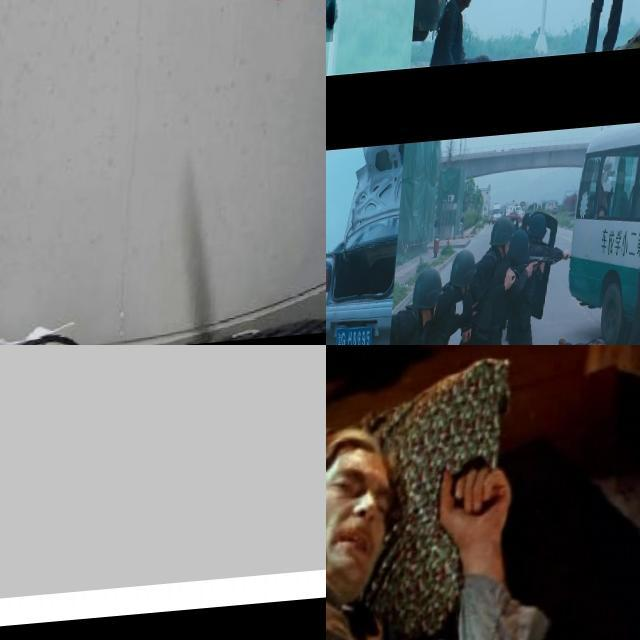-: (177, 0, 326, 41)
gun-knife-thesis - v11 Yolov5 augmented: (0, 345, 326, 640), (326, 0, 369, 80), (516, 254, 566, 288), (556, 0, 574, 9), (326, 303, 332, 322)
